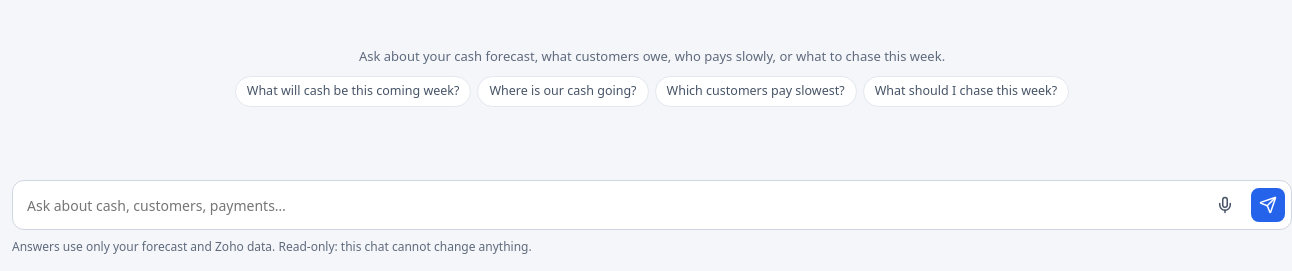
Test: ChatThread › shows a readable message when the server has no chat route
Type "hi" into the field named "Ask a question" at (609, 205), box [19, 188, 1199, 222]
Then press Enter
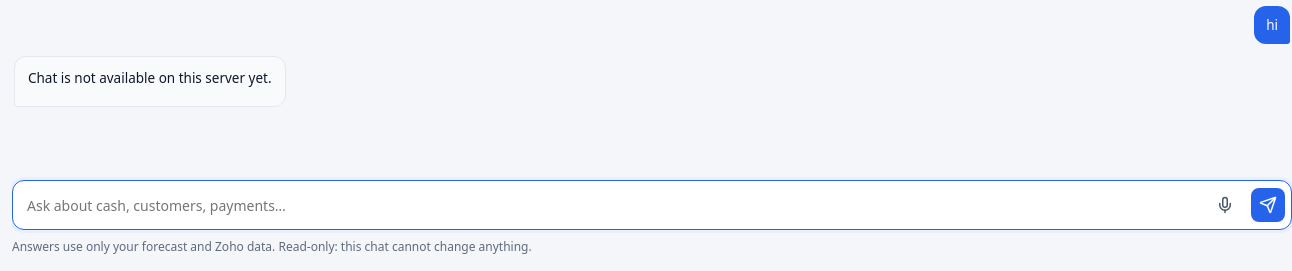
Now the text "Chat is not available on this server yet." is shown, box [28, 68, 272, 89]
